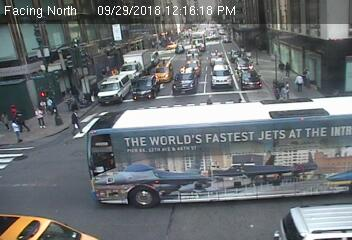car: (86, 106, 352, 209), (1, 210, 102, 240), (274, 207, 351, 240), (117, 49, 149, 85), (97, 75, 132, 106), (136, 74, 156, 106), (211, 65, 232, 89), (153, 60, 173, 83), (173, 75, 198, 93), (240, 72, 264, 89), (179, 60, 202, 73), (237, 58, 256, 72), (192, 32, 207, 49), (209, 50, 223, 62), (186, 50, 200, 59), (176, 45, 186, 53), (223, 36, 233, 43)
